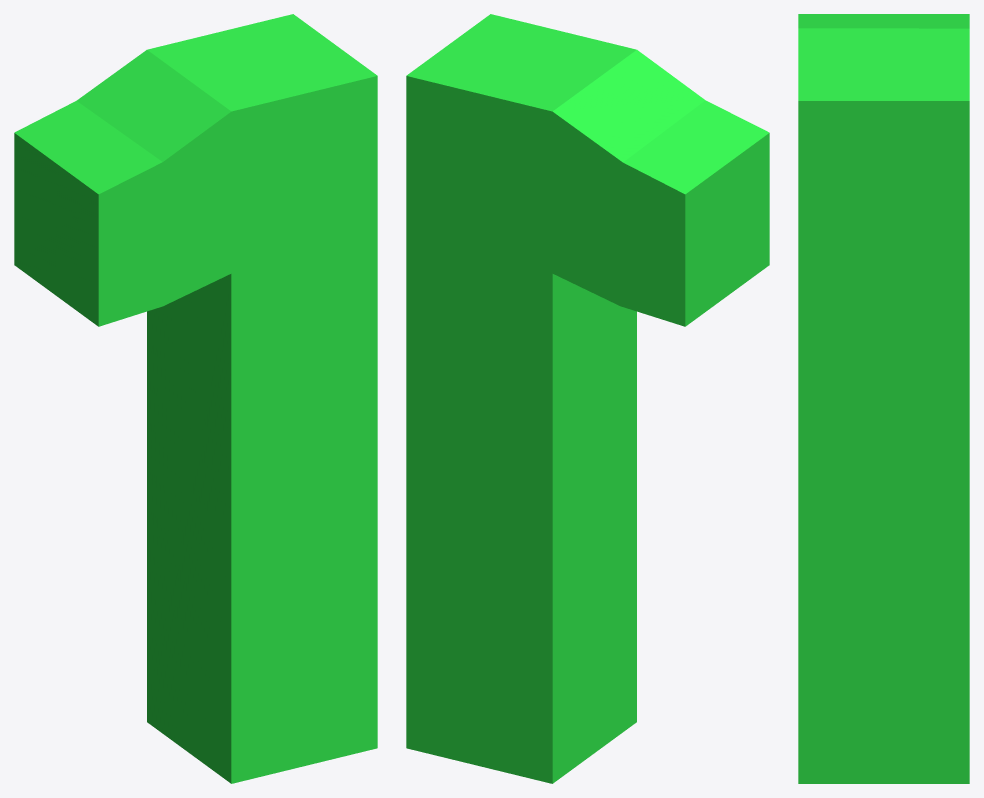
File: 1.3Motion.fbx
The picture shows the model from 3 angles, left to right: view 1: azimuth 30°, elevation 25°; view 2: azimuth 150°, elevation 25°; view 3: azimuth 270°, elevation 25°; orthographic projection.
Parts seen in each view (by area): view 1: Box001; view 2: Box001; view 3: Box001.
Boxes of the visible parts, x1,y1,x2,y2 form: Box001: [14, 14, 377, 783]; Box001: [406, 14, 769, 783]; Box001: [798, 14, 969, 783].
Size of the model in its own units: 57.23 by 132 by 30.
